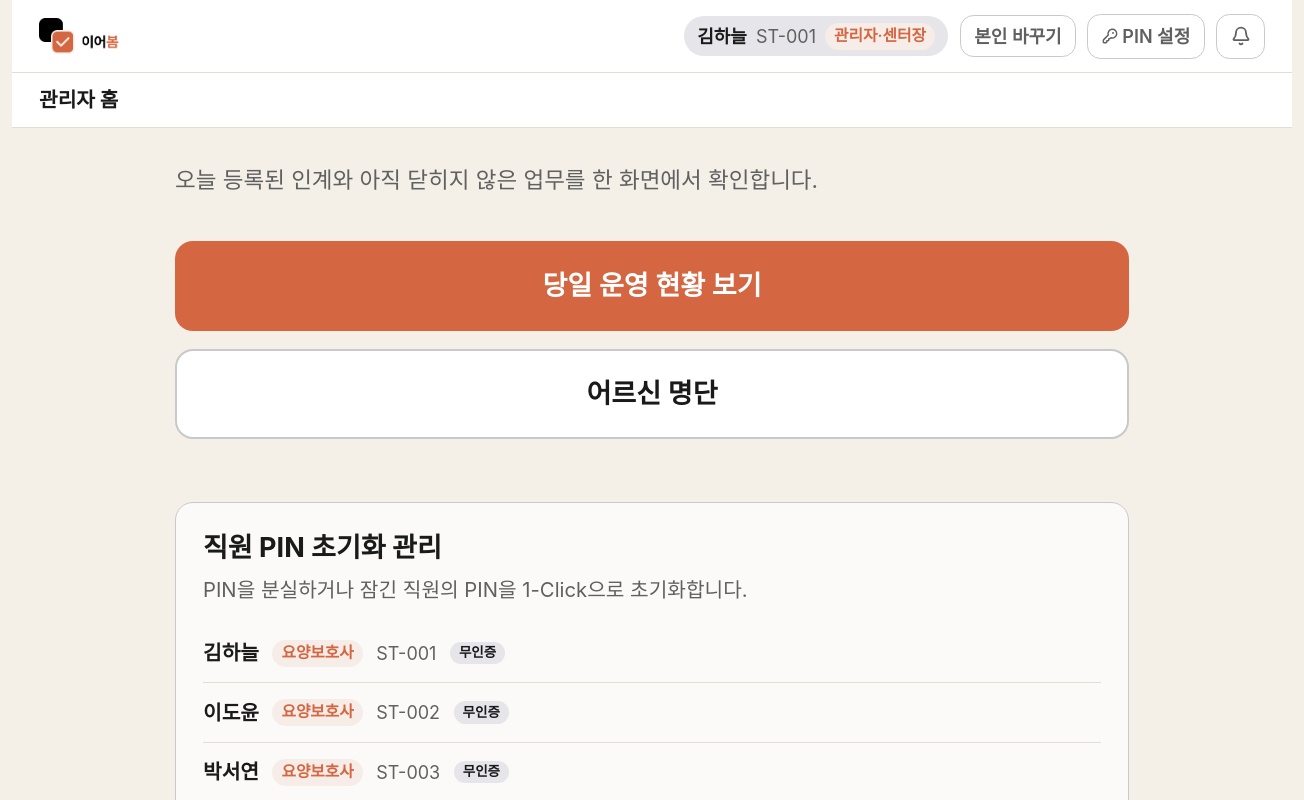
Test: 어르신 명단 화면 (n49 · n50) › 관리자 홈에서 들어올 수 있다 (n42 → n58 → n49)
Click the link "어르신 명단" at (652, 394), box [175,348,1129,438]
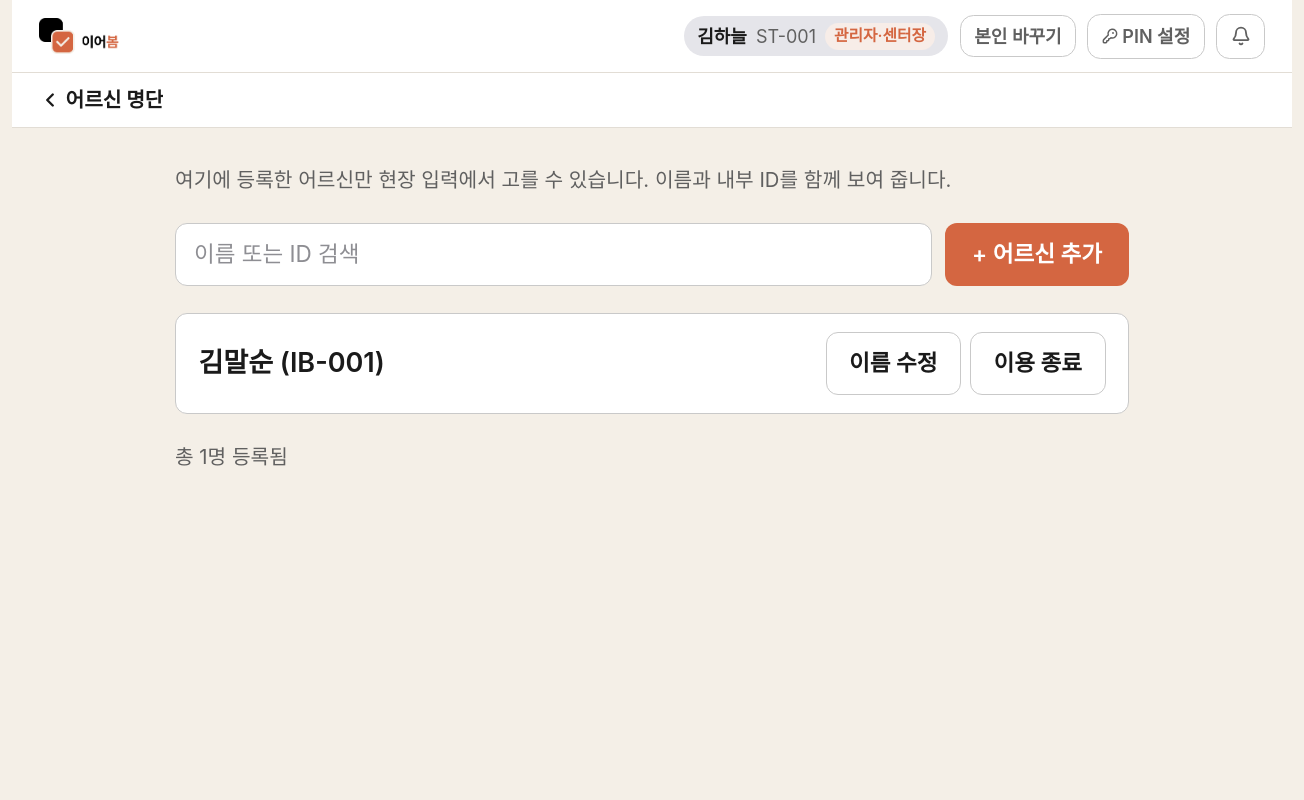
Check: the button "+ 어르신 추가" is shown, box [945,222,1129,286]
